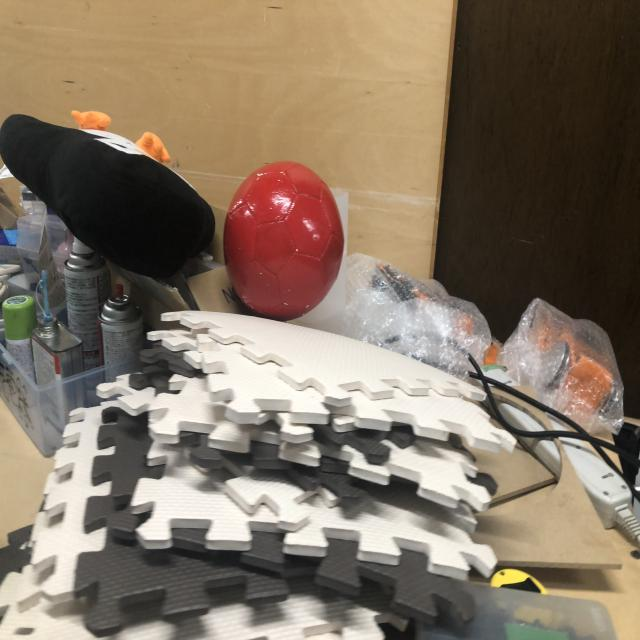red_ball: (224, 162, 345, 319)
